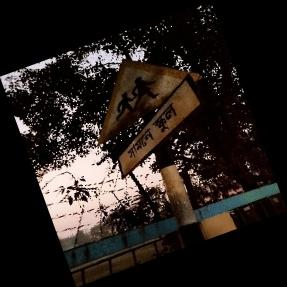School-in-front: (100, 61, 203, 178)
